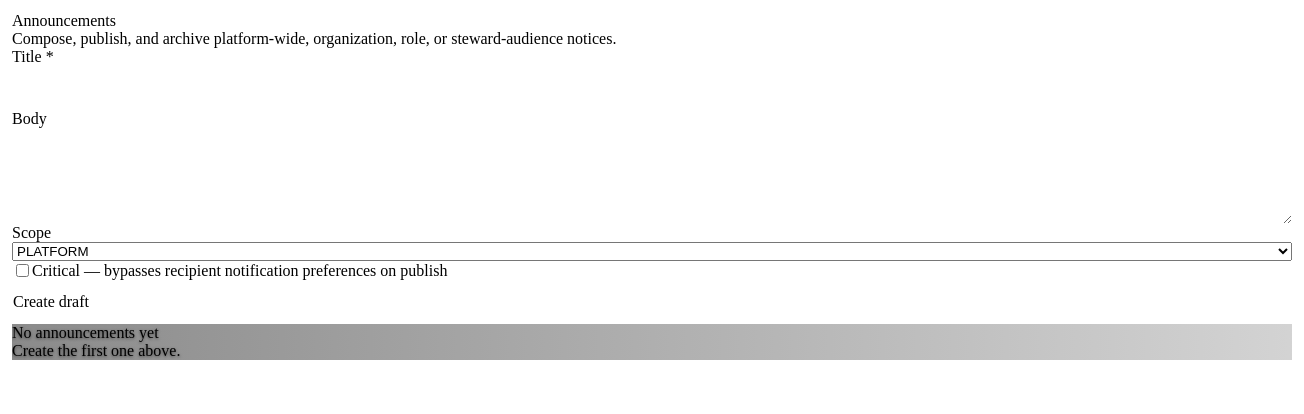
it: AnnouncementsComposerPanel › shows the target-role field only when scope is ROLE
Check: the text "No announcements yet" is shown, box [12,324,159,342]
Check: the text "Target role" is not shown
Select "ROLE" in the dropdown labelled "Scope" at (652, 252), box [12,242,1292,261]
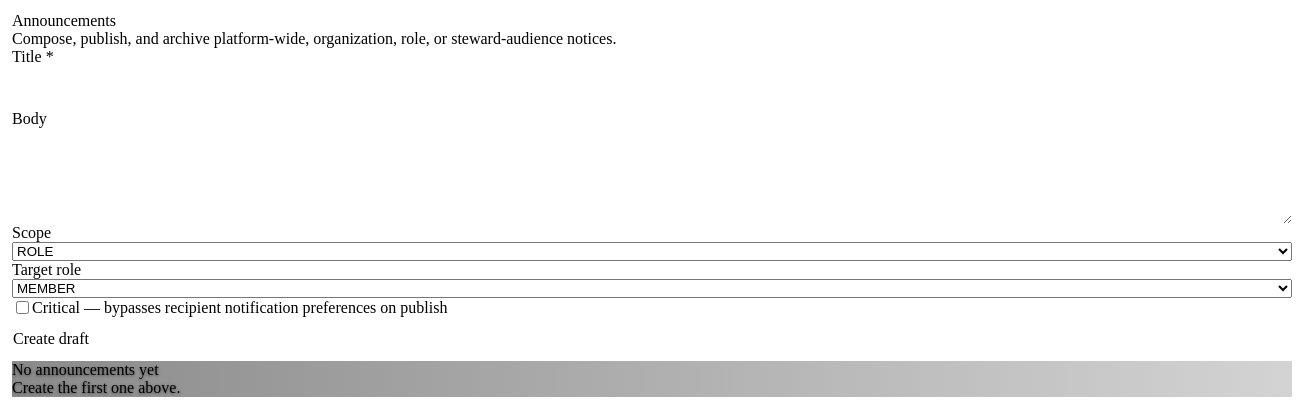
Check: the text "Target role" is shown, box [12,261,81,278]
